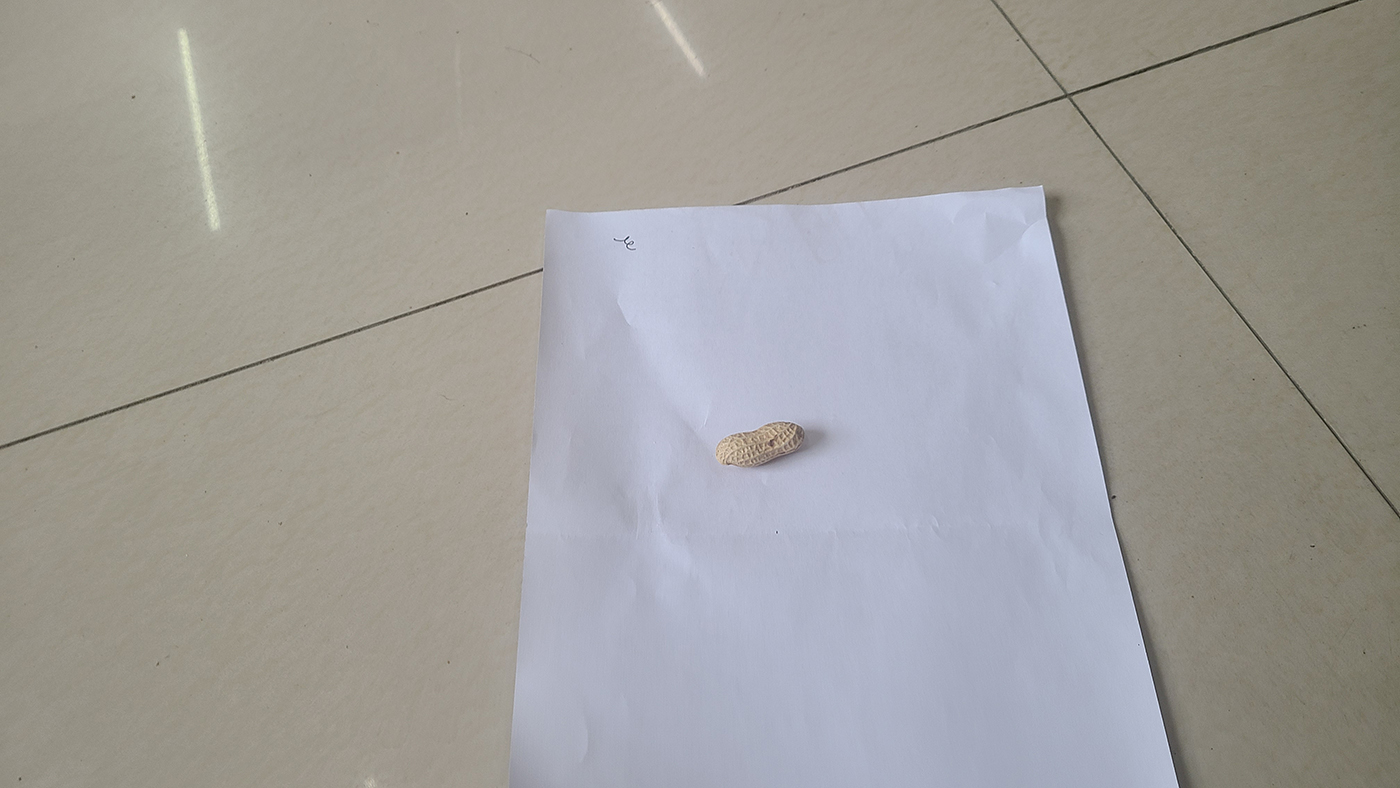h: (714, 421, 805, 465)
